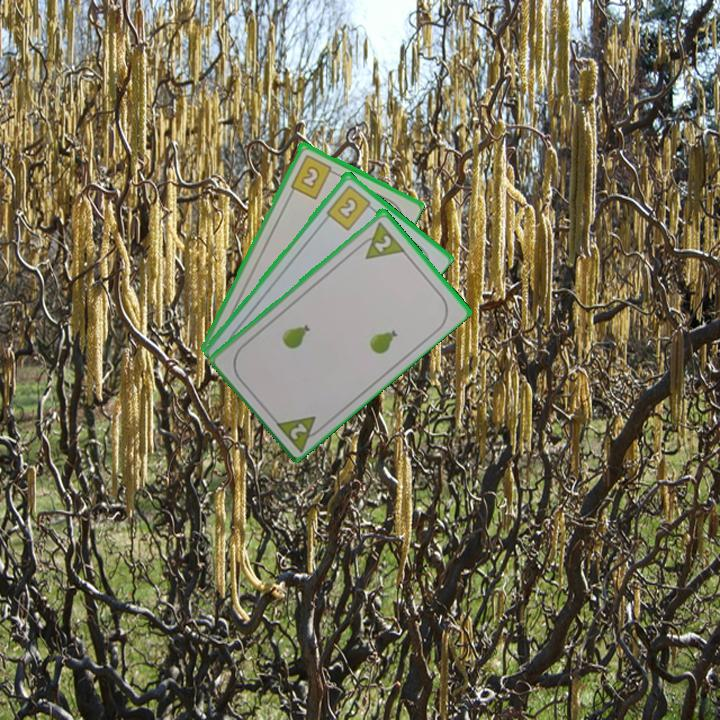2b: (323, 181, 377, 233), (287, 151, 339, 201)
2p: (271, 411, 328, 454), (353, 218, 407, 262)
